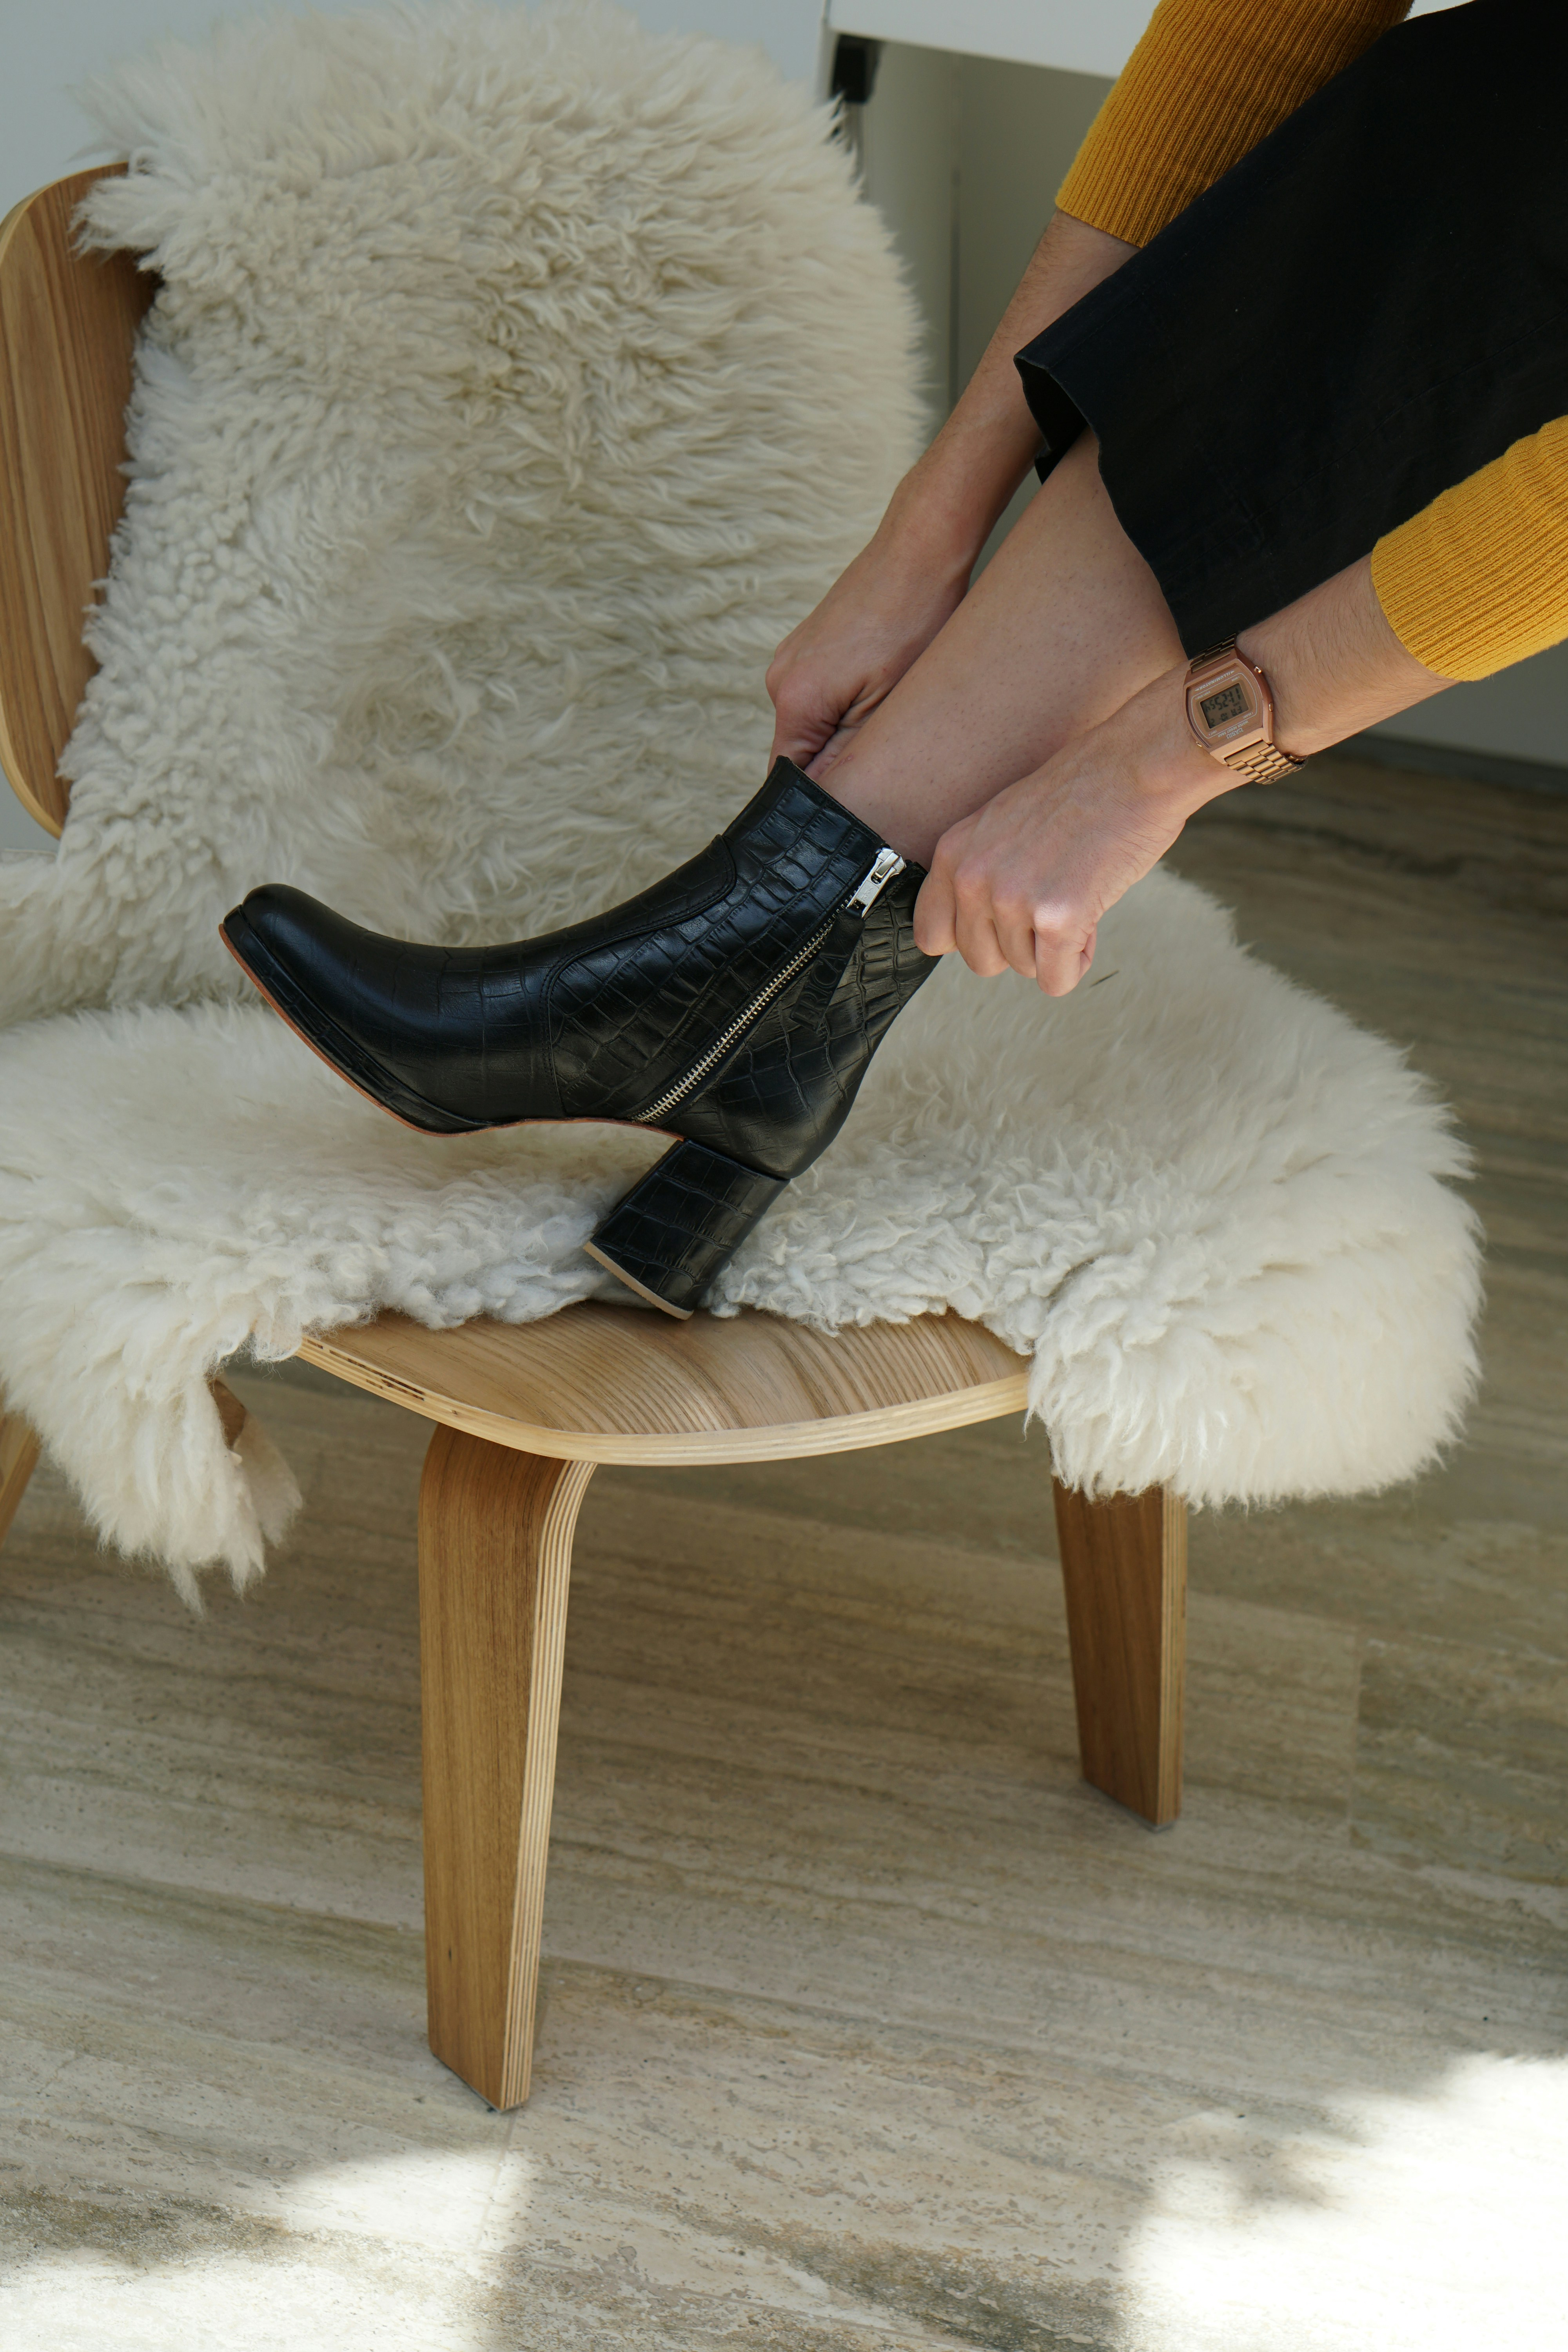Footwear: (184, 747, 971, 1365)
